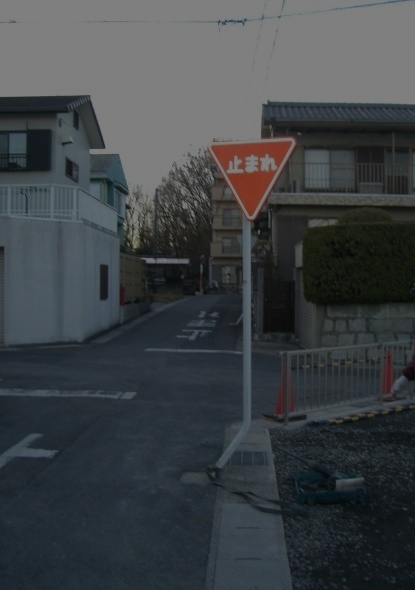Regulatory_sign_triangle: (209, 129, 306, 223)
